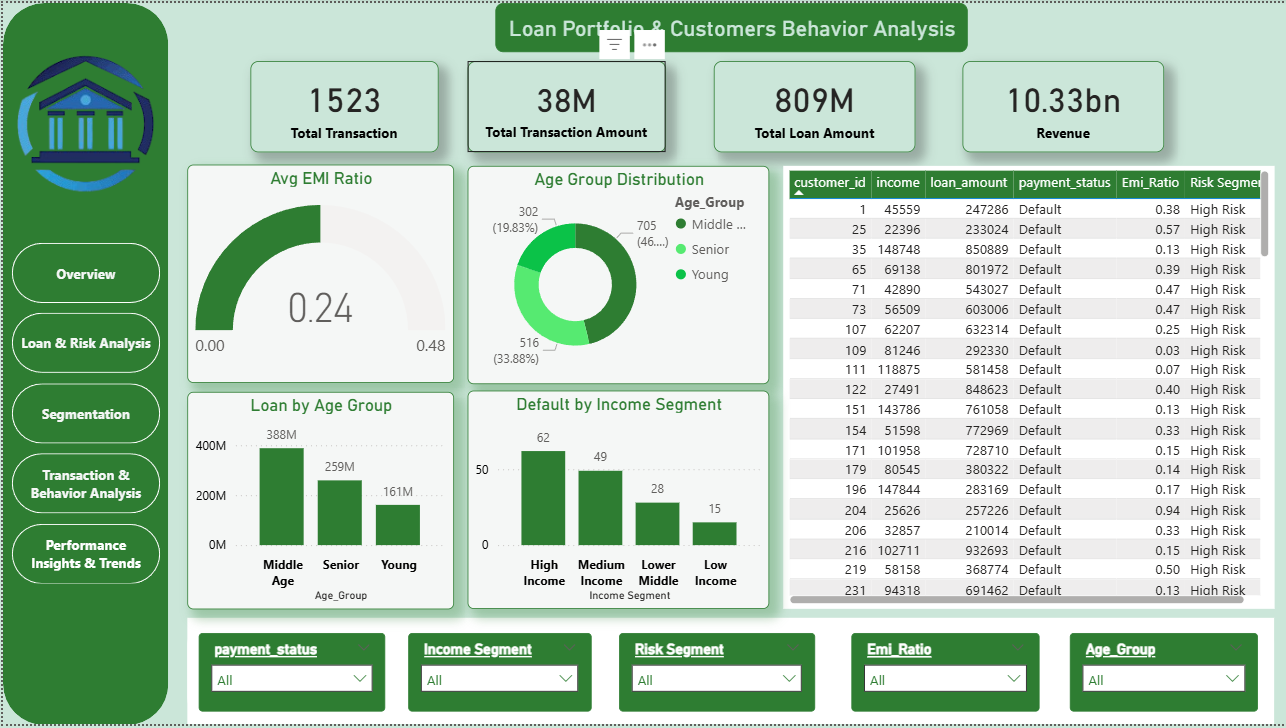

What the dashboard file says about the page in this screenshot:
{"tool":"powerbi","page":{"name":"Performance Insights & Trends","canvas":[1280,720],"ordinal":4},"visuals":[{"type":"shape","box":[0,0,165,720.5],"z":0},{"type":"shape","title":"Loan Portfolio & Customers Behavior Analysis","box":[491.3,0,471.1,49.1],"z":1000},{"type":"pageNavigator","box":[8.8,239.3,148.6,341.4],"z":2000},{"type":"image","box":[0,11.3,165,219.2],"z":3000},{"type":"card","fields":{"Values":["CountNonNull(banking_loan_db cust_trans_loan.transaction_id)"]},"box":[246.9,57.9,187.7,90.7],"z":4000},{"type":"card","fields":{"Values":["Sum(banking_loan_db transactions.amount)"]},"box":[463.6,57.9,197.8,90.7],"z":5000},{"type":"card","fields":{"Values":["Sum(banking_loan_db cust_trans_loan.loan_amount)"]},"box":[709.2,57.9,201.5,90.7],"z":6000},{"type":"gauge","title":"Avg EMI Ratio","fields":{"Y":["Avg(banking_loan_db cust_trans_loan.Emi_Ratio)"]},"box":[183.9,161.2,265.8,217.9],"z":7000},{"type":"shape","box":[183.9,612.9,1084.6,107.1],"z":8000},{"type":"slicer","fields":{"Values":["banking_loan_db cust_trans_loan.payment_status"]},"box":[195.2,628.6,186.4,78.1],"z":9000},{"type":"slicer","fields":{"Values":["banking_loan_db cust_trans_loan.Income Segment"]},"box":[404.4,628.6,182.7,78.1],"z":10000},{"type":"slicer","fields":{"Values":["banking_loan_db cust_trans_loan.Risk Segment"]},"box":[614.7,628.6,195.2,78.1],"z":11000},{"type":"slicer","fields":{"Values":["banking_loan_db cust_trans_loan.Emi_Ratio"]},"box":[846.5,628.6,187.7,78.1],"z":12000},{"type":"slicer","fields":{"Values":["banking_loan_db cust_trans_loan.Age_Group"]},"box":[1064.4,628.6,187.7,78.1],"z":13000},{"type":"card","fields":{"Values":["banking_loan_db cust_trans_loan.Revenue"]},"box":[957.3,57.9,201.5,90.7],"z":14000},{"type":"donutChart","title":"Age Group Distribution","fields":{"Category":["banking_loan_db cust_trans_loan.Age_Group"],"Y":["CountNonNull(banking_loan_db cust_trans_loan.customer_id)"]},"box":[463.6,162.5,301.1,217.9],"z":15000},{"type":"columnChart","title":"Loan by Age Group","fields":{"Category":["banking_loan_db cust_trans_loan.Age_Group"],"Y":["Sum(banking_loan_db cust_trans_loan.loan_amount)"]},"box":[183.9,388,265.8,216.7],"z":16000},{"type":"tableEx","fields":{"Values":["banking_loan_db cust_trans_loan.customer_id","banking_loan_db cust_trans_loan.income","banking_loan_db cust_trans_loan.loan_amount","banking_loan_db cust_trans_loan.payment_status","banking_loan_db cust_trans_loan.Emi_Ratio","banking_loan_db cust_trans_loan.Risk Segment"]},"box":[778.5,162.5,490,442.1],"z":17000},{"type":"columnChart","title":"Default by Income Segment","fields":{"Category":["banking_loan_db cust_trans_loan.Income Segment"],"Y":["banking_loan_db cust_trans_loan.Default Count"]},"box":[463.6,386.7,301.1,217.9],"z":18000}]}

Visuals, with their boxes in screenshot pixels (x1, y1, x2, y2), scaled from the page's 1280x720 canvas onto the 1286x728 screenshot:
shape: bbox=[0, 0, 166, 727]
"Loan Portfolio & Customers Behavior Analysis" shape: bbox=[494, 0, 967, 50]
pageNavigator: bbox=[9, 242, 158, 587]
image: bbox=[0, 11, 166, 233]
card - CountNonNull(banking_loan_db cust_trans_loan.transaction_id): bbox=[248, 59, 437, 150]
card - Sum(banking_loan_db transactions.amount): bbox=[466, 59, 665, 150]
card - Sum(banking_loan_db cust_trans_loan.loan_amount): bbox=[713, 59, 915, 150]
"Avg EMI Ratio" gauge: bbox=[185, 163, 452, 383]
shape: bbox=[185, 620, 1274, 727]
slicer - banking_loan_db cust_trans_loan.payment_status: bbox=[196, 636, 383, 715]
slicer - banking_loan_db cust_trans_loan.Income Segment: bbox=[406, 636, 590, 715]
slicer - banking_loan_db cust_trans_loan.Risk Segment: bbox=[618, 636, 814, 715]
slicer - banking_loan_db cust_trans_loan.Emi_Ratio: bbox=[850, 636, 1039, 715]
slicer - banking_loan_db cust_trans_loan.Age_Group: bbox=[1069, 636, 1258, 715]
card - banking_loan_db cust_trans_loan.Revenue: bbox=[962, 59, 1164, 150]
"Age Group Distribution" donutChart: bbox=[466, 164, 768, 385]
"Loan by Age Group" columnChart: bbox=[185, 392, 452, 611]
tableEx - banking_loan_db cust_trans_loan.customer_id x banking_loan_db cust_trans_loan.income: bbox=[782, 164, 1274, 611]
"Default by Income Segment" columnChart: bbox=[466, 391, 768, 611]
